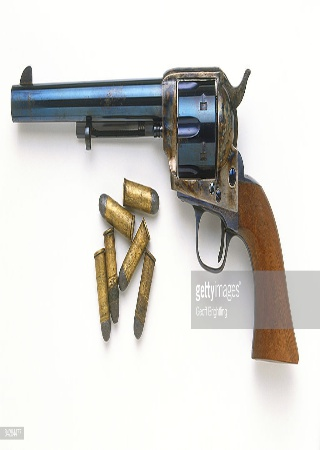handgun: (8, 61, 303, 365)
